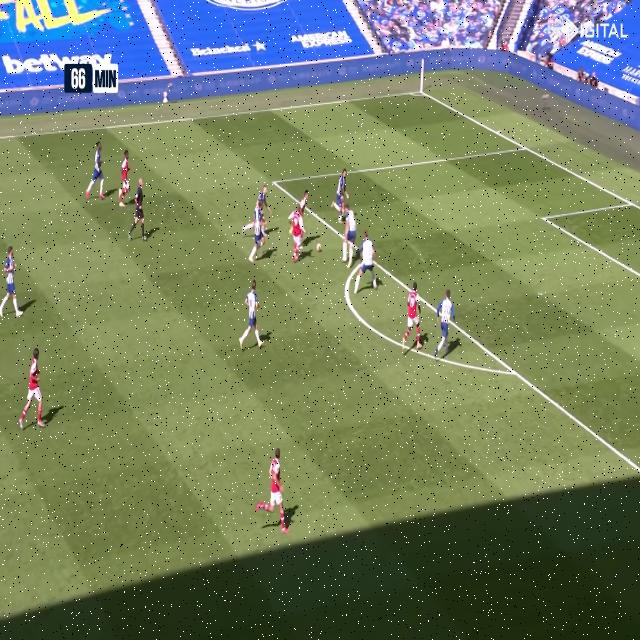Ball: (316, 241, 323, 256)
TEAM 1: (19, 349, 48, 432), (350, 231, 380, 295), (402, 283, 423, 354), (341, 203, 359, 266), (290, 202, 308, 264), (292, 182, 311, 232), (119, 150, 133, 206)
TEAM 2: (254, 438, 288, 532), (0, 245, 29, 320), (237, 278, 264, 353), (243, 168, 271, 230), (436, 288, 456, 354), (84, 140, 105, 202), (332, 156, 349, 218), (248, 211, 267, 260)
